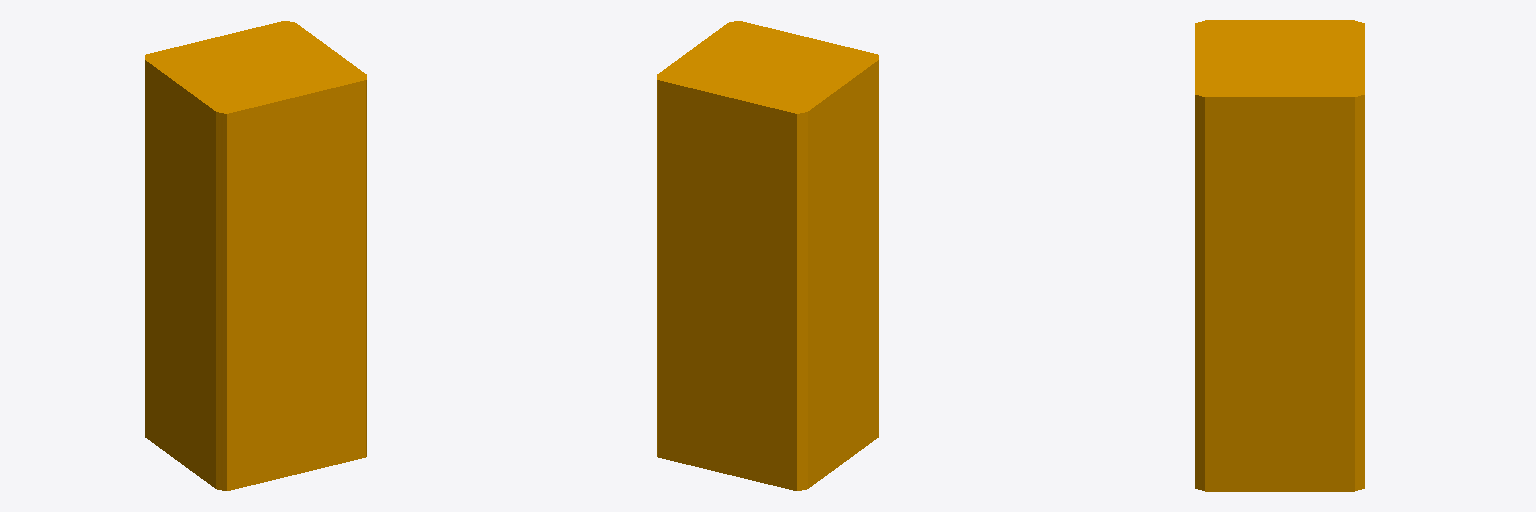
The robot description file, URDF, robot "factory_rectangular_peg_16mm_loose":
<?xml version="1.0"?>
<robot name="factory_rectangular_peg_16mm_loose">
    <link name="factory_rectangular_peg_16mm_loose">
        <visual>
            <geometry>
                <mesh filename="../mesh/factory_insertion/factory_square_peg_32mm_loose_subdiv_3x.obj"/>
            </geometry>
        </visual>
        <collision>
            <geometry>
                <mesh filename="../mesh/factory_insertion/factory_square_peg_32mm_loose_subdiv_3x.obj"/>
            </geometry>
            <!-- sdf resolution="256"-->
        </collision>
    </link>
</robot>

--- Facts derived from the render (not from the file) ---
Views: 3 orthographic renders of the robot side by side, from view 1: azimuth 30°, elevation 25°; view 2: azimuth 150°, elevation 25°; view 3: azimuth 270°, elevation 25°.
Robot: factory_rectangular_peg_16mm_loose — 1 links, 0 joints (none); root link factory_rectangular_peg_16mm_loose; default pose: every joint at zero.
Visible links, largest first — view 1: factory_rectangular_peg_16mm_loose; view 2: factory_rectangular_peg_16mm_loose; view 3: factory_rectangular_peg_16mm_loose.
Link boxes in pixels (<box>): factory_rectangular_peg_16mm_loose: <box>145,21,366,490</box>; factory_rectangular_peg_16mm_loose: <box>657,21,878,490</box>; factory_rectangular_peg_16mm_loose: <box>1195,20,1364,491</box>.
Size in the robot's own frame: 0.0319 by 0.0297 by 0.0762 metres.
1 mesh visuals loaded from 1 distinct referenced files (1 OBJ).
